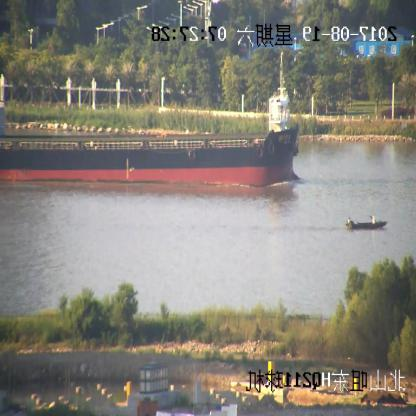Fishing Boat: (346, 214, 386, 234)
